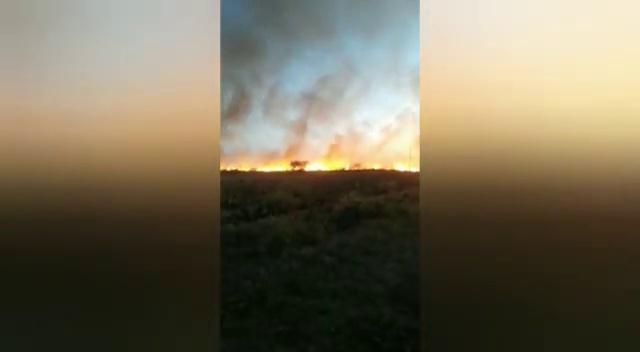fire: (236, 161, 284, 172), (308, 163, 332, 174)
